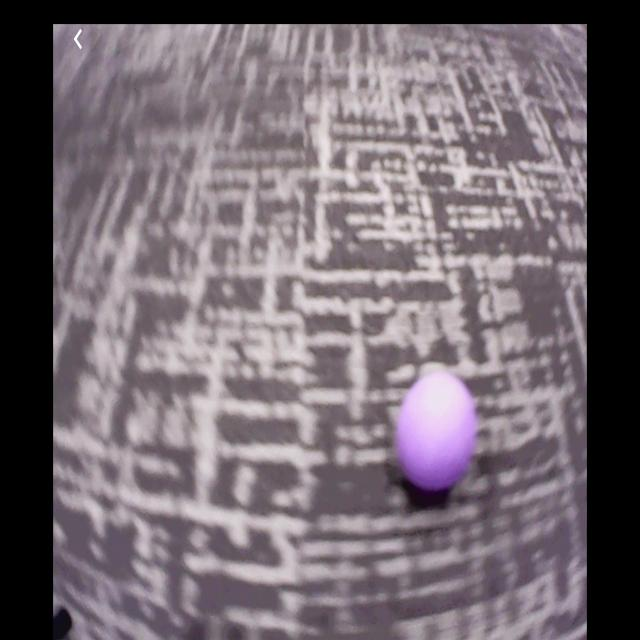ball: (396, 372, 477, 492)
